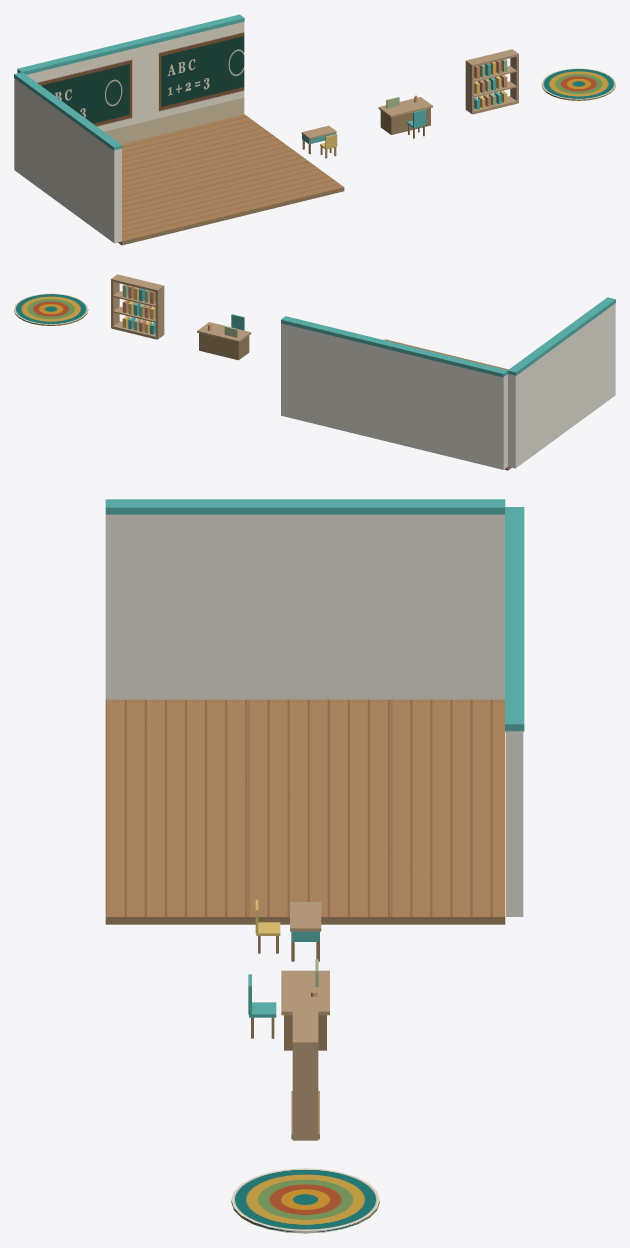
Rendered from kit-13-interior-sekolah.glb.
The picture shows the model from 3 angles, top to bottom: view 1: azimuth 30°, elevation 25°; view 2: azimuth 150°, elevation 25°; view 3: azimuth 270°, elevation 25°; orthographic projection. The views are drawn at different scales.
Parts seen in each view (by area): view 1: SDIn_RuangKelas, SDIn_LemariBuku, SDIn_KarpetBaca, SDIn_MejaGuru, SDIn_MejaMurid; view 2: SDIn_RuangKelas, SDIn_LemariBuku, SDIn_KarpetBaca, SDIn_MejaGuru; view 3: SDIn_RuangKelas, SDIn_KarpetBaca, SDIn_LemariBuku, SDIn_MejaGuru, SDIn_MejaMurid.
Part boxes in pixels (x1,y1,x2,y2): SDIn_RuangKelas: (14, 14, 344, 245); SDIn_LemariBuku: (465, 49, 518, 114); SDIn_KarpetBaca: (541, 68, 615, 100); SDIn_MejaGuru: (378, 95, 432, 138); SDIn_MejaMurid: (301, 125, 337, 158); SDIn_RuangKelas: (281, 297, 615, 470); SDIn_LemariBuku: (111, 274, 164, 339); SDIn_KarpetBaca: (14, 293, 88, 325); SDIn_MejaGuru: (197, 314, 251, 360); SDIn_RuangKelas: (105, 499, 524, 924); SDIn_KarpetBaca: (231, 1168, 379, 1233); SDIn_LemariBuku: (291, 996, 319, 1140); SDIn_MejaGuru: (248, 959, 329, 1050); SDIn_MejaMurid: (255, 899, 321, 961).
Size of the model in its own units: 22.12 by 3.87 by 7.33.
Materials: 10 (3 with a texture image).
